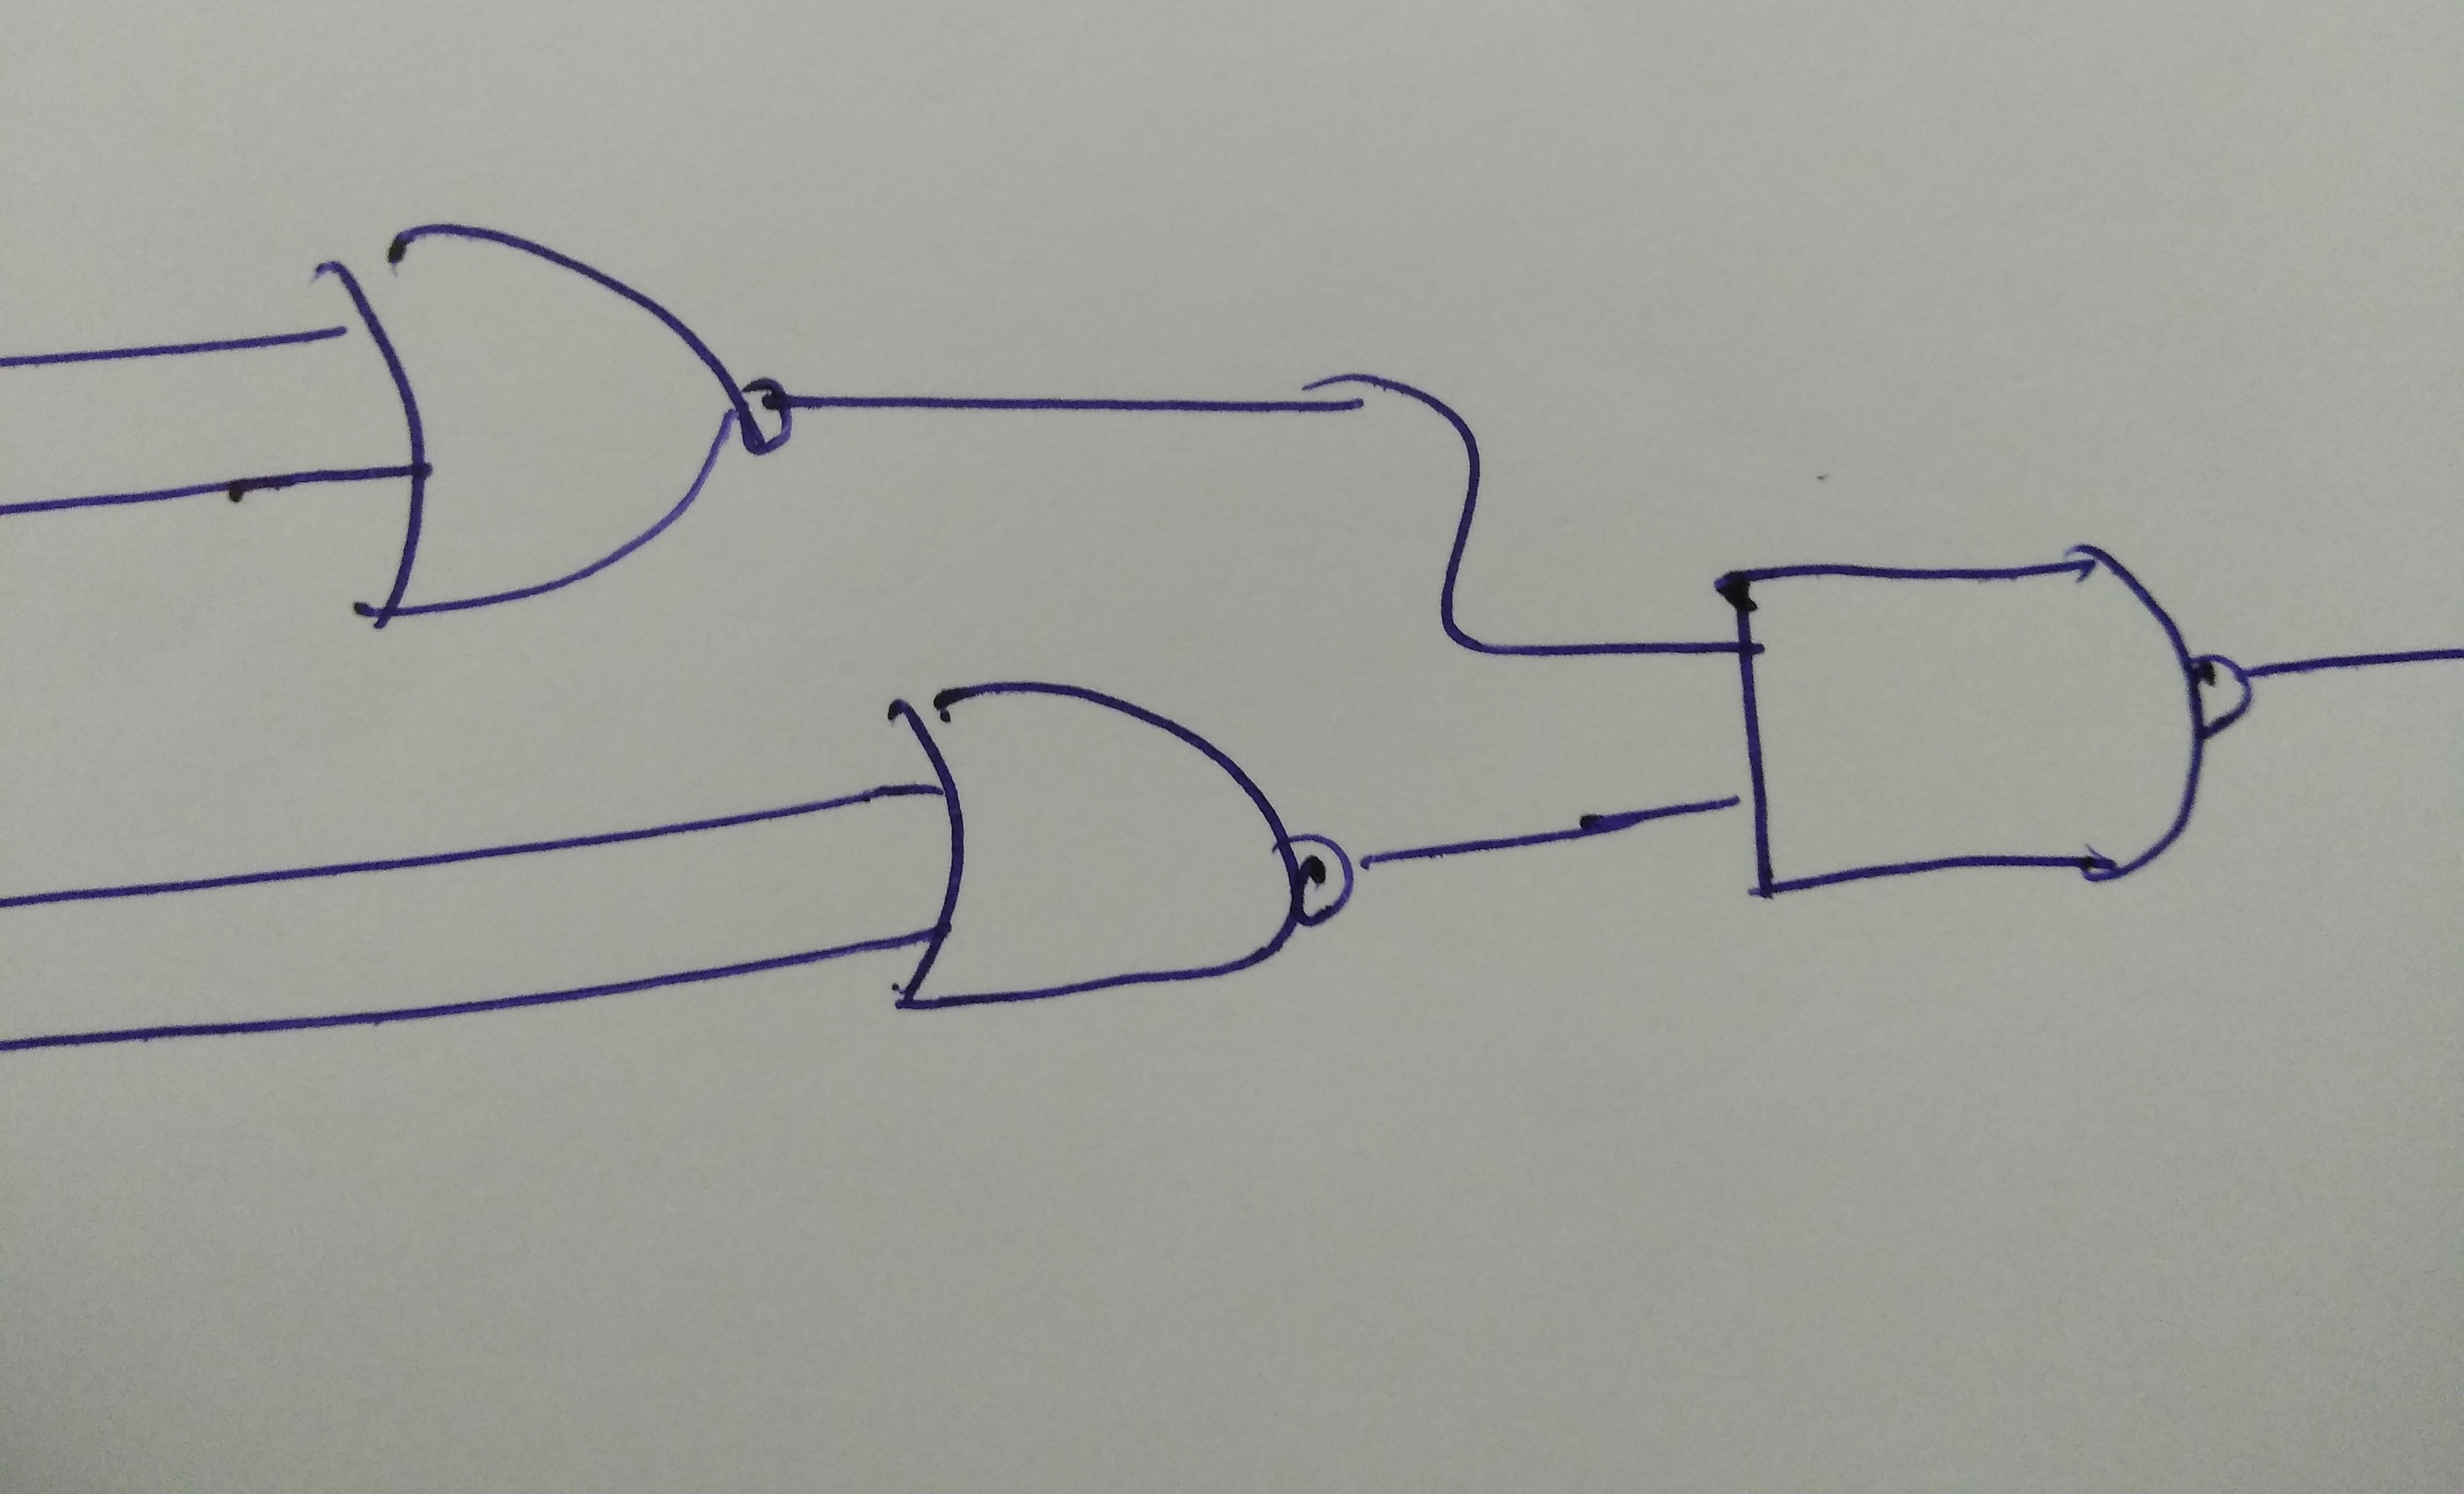nand: (1663, 519, 2276, 956)
nor: (262, 178, 859, 663), (875, 662, 1387, 1061)
